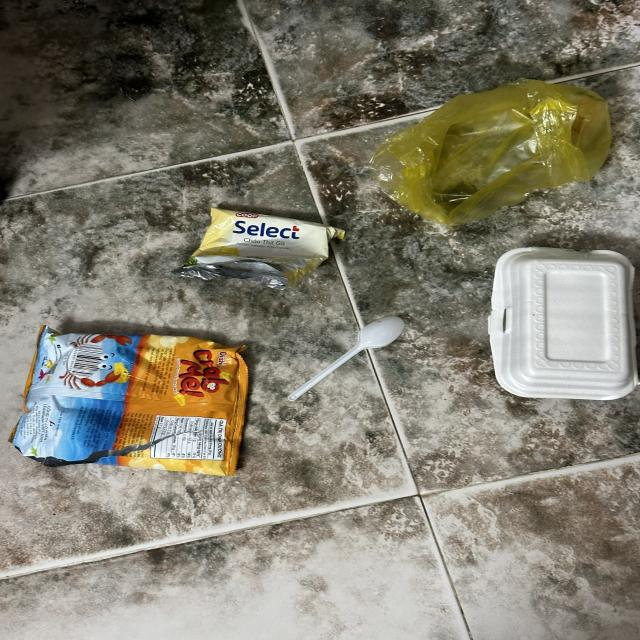bag: (368, 77, 613, 227)
foam box: (486, 245, 640, 402)
plastic utensil: (285, 314, 407, 404)
snack package: (5, 323, 250, 478), (170, 206, 346, 294)
